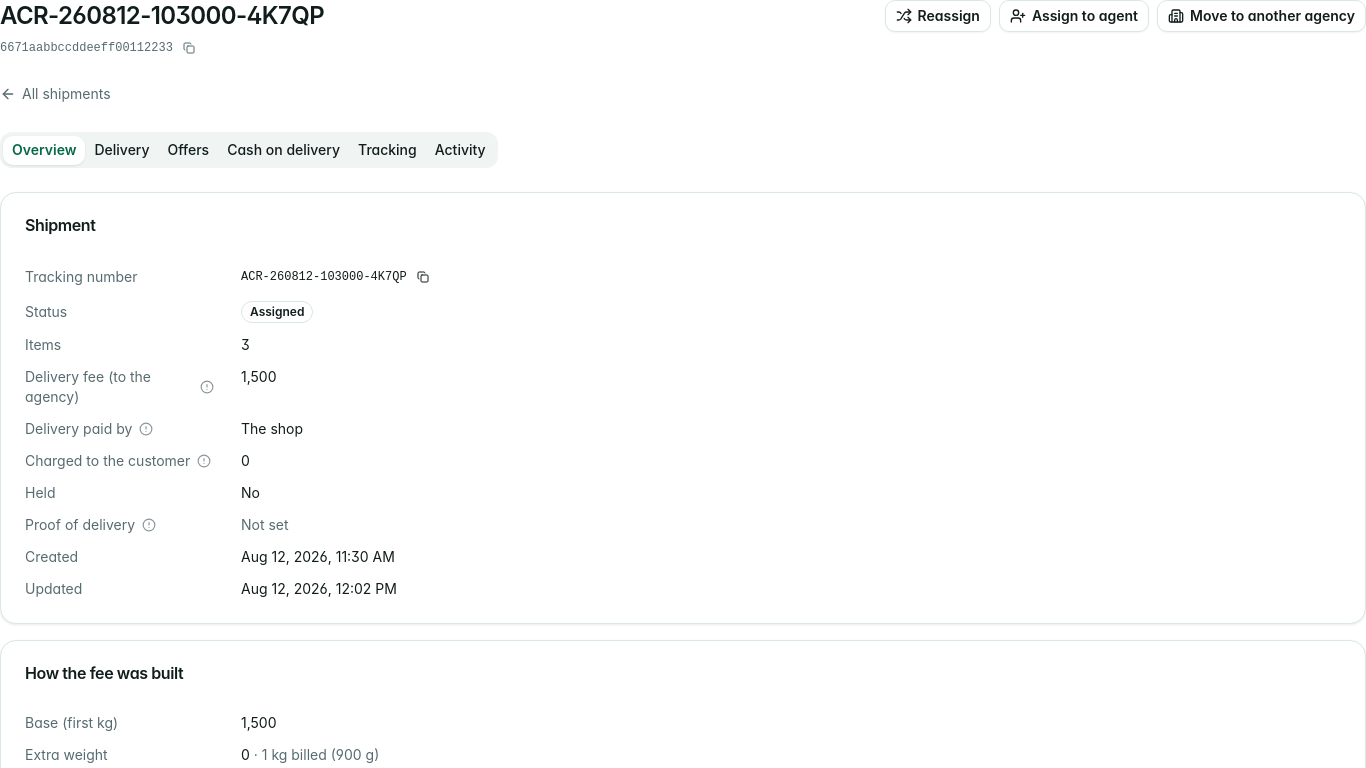
Test: assign to agent › never offers to push past a missing contract
The image size is (1366, 768).
Click the button "Assign to agent": coordinates (1074, 16) [999,0,1149,32]
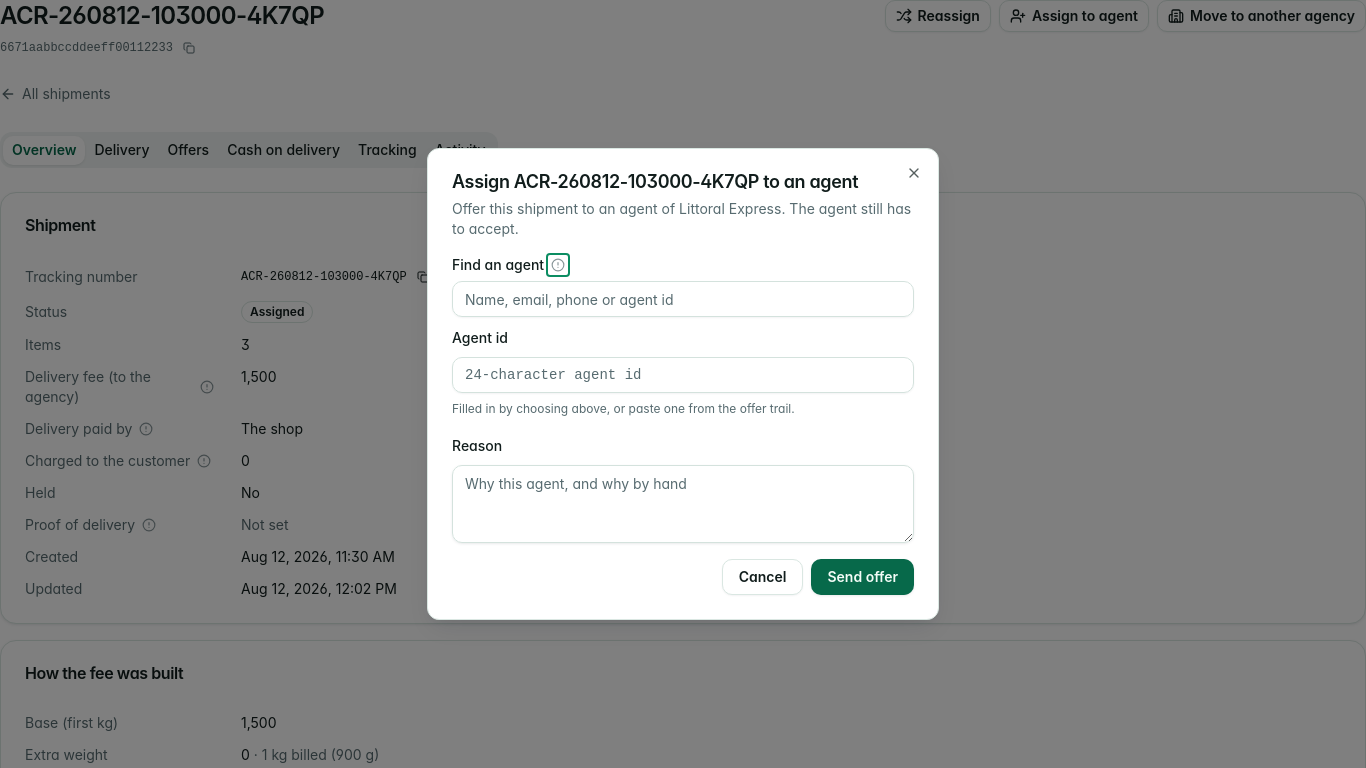
In the field labelled "Agent id": coordinates (683, 375) [452,357,914,393], type "6660112233445566778899aa"
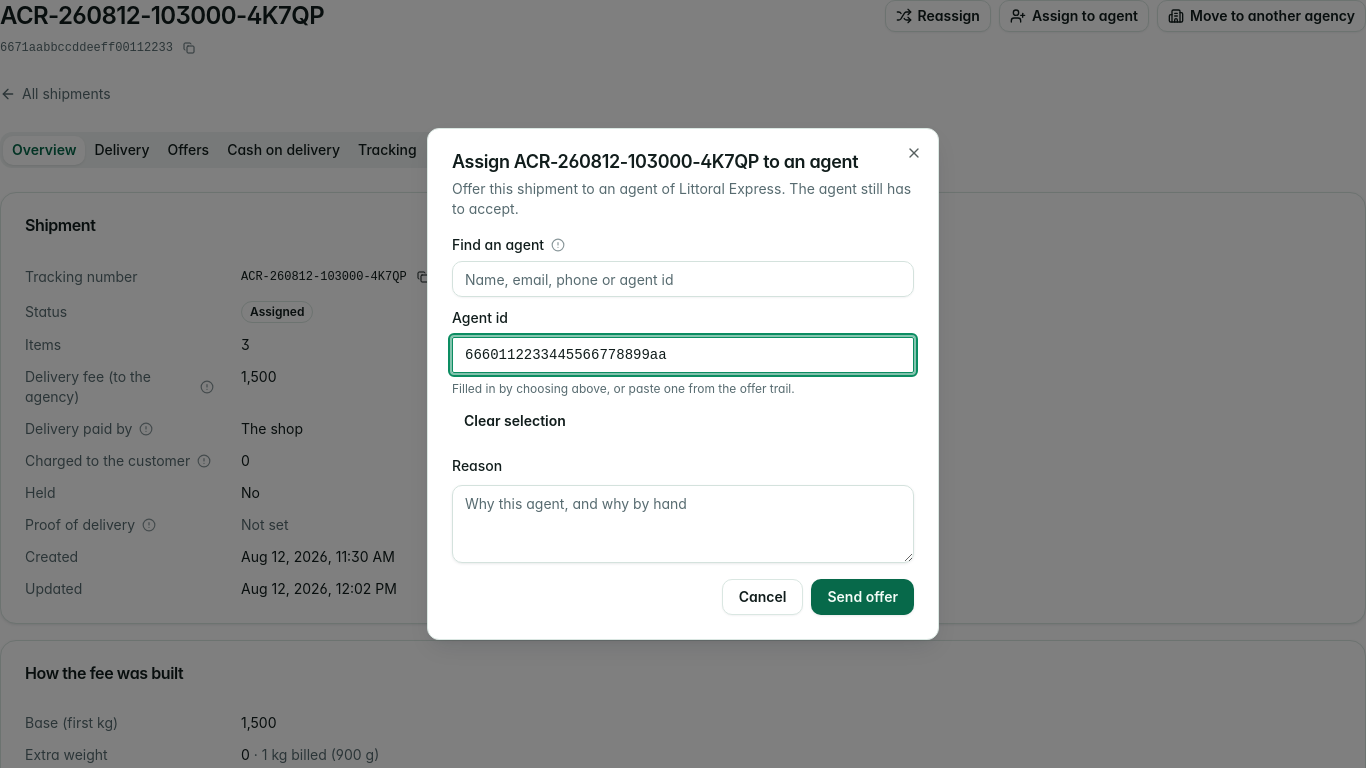
In the text box labelled "Reason": coordinates (683, 524) [452,485,914,563], type "Customer waiting three days"
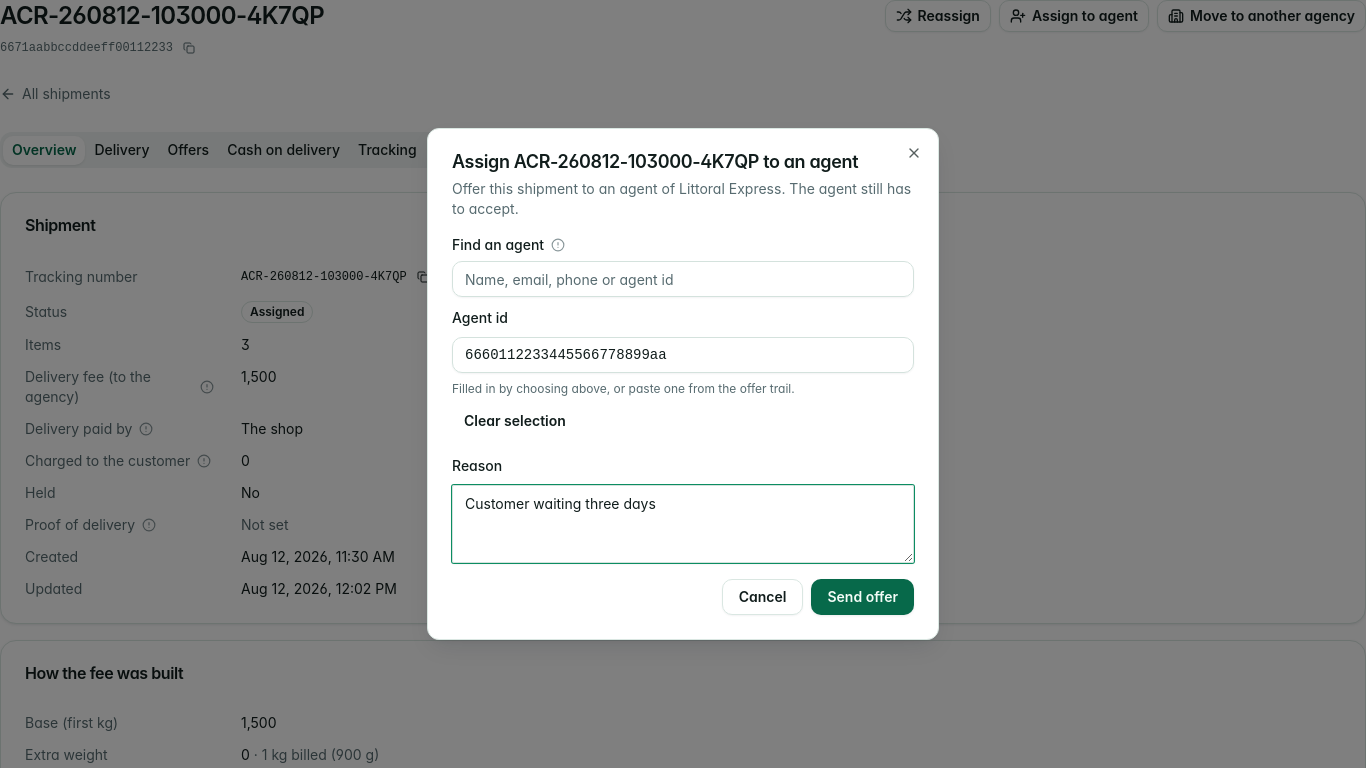
Click the button "Send offer": coordinates (863, 597) [812,579,914,615]
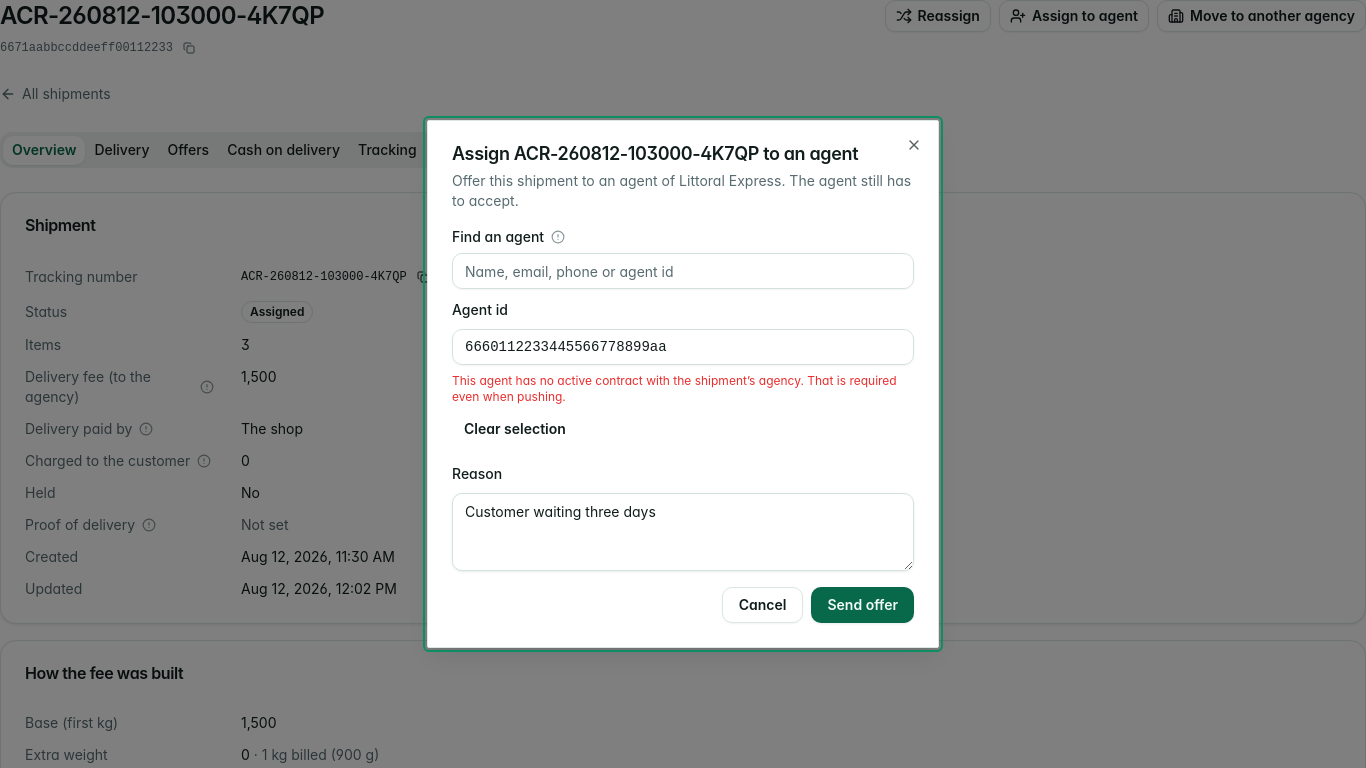
Expected: the text "no active contract" is shown, [452,373,897,404]
